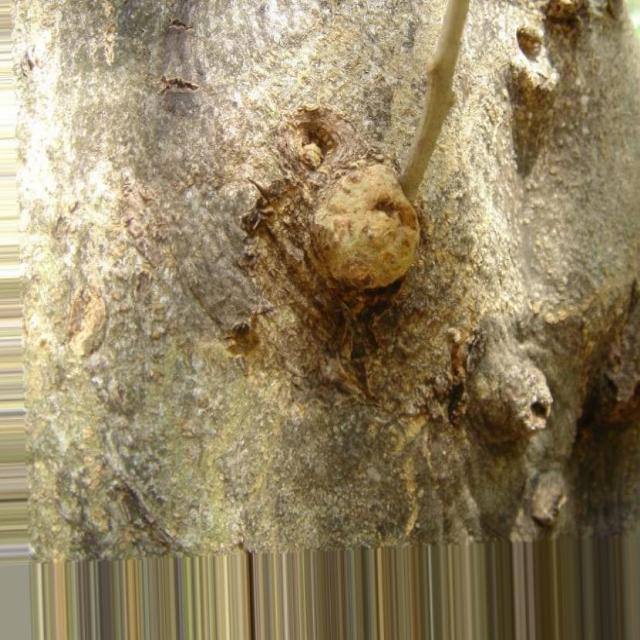Tuberculosis: (316, 166, 420, 292)
